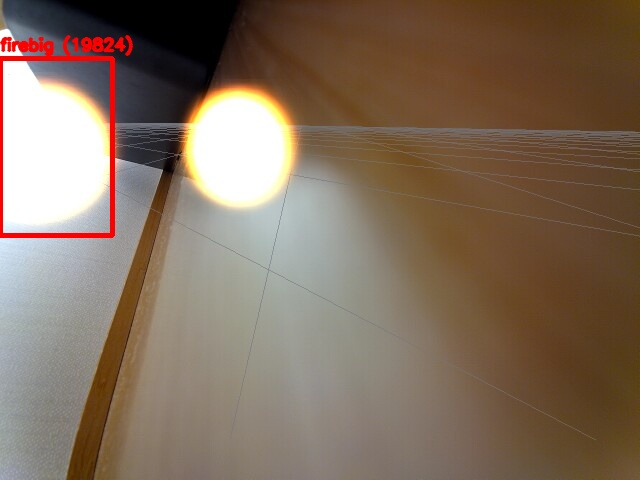firebig: (0, 58, 112, 235)
